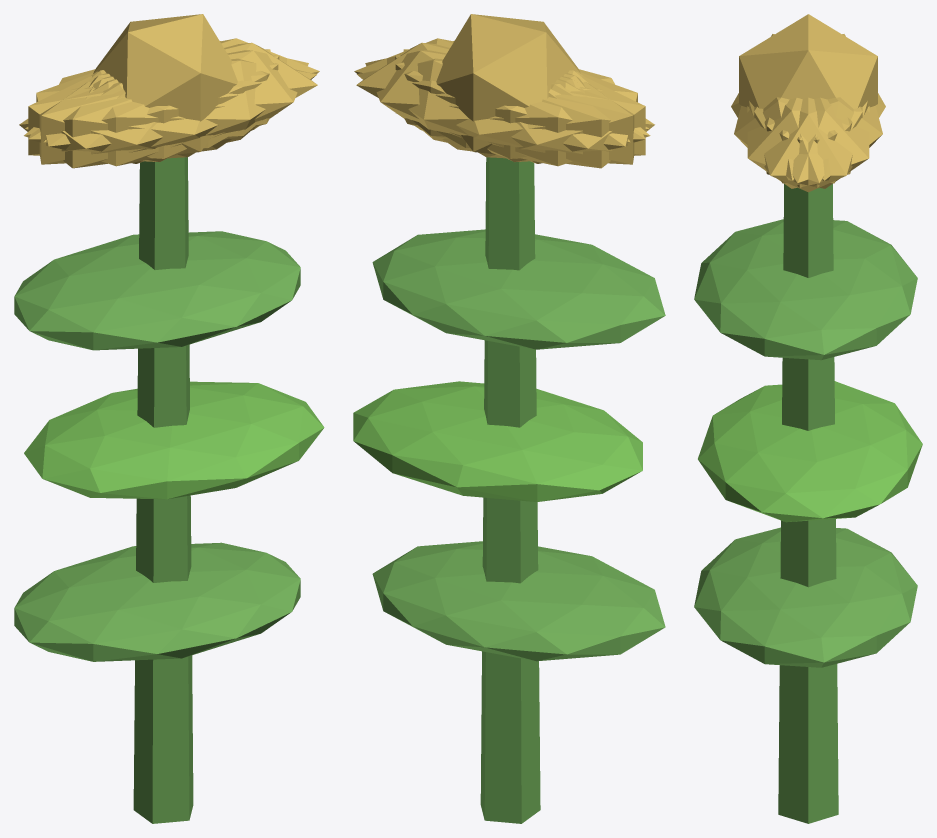
File: phyllanthus-amarus.glb
The picture shows the model from 3 angles, left to right: view 1: azimuth 30°, elevation 25°; view 2: azimuth 150°, elevation 25°; view 3: azimuth 270°, elevation 25°; orthographic projection.
Parts seen in each view (by area): view 1: leaf2, leaf1, leaf0, stem, center, petal1, petal6, petal2, petal5, petal7, petal0, petal4 (+2 smaller); view 2: leaf1, leaf2, leaf0, stem, center, petal8, petal3, petal7, petal4, petal2, petal0, petal5 (+2 smaller); view 3: leaf1, leaf2, leaf0, stem, center, petal0, petal4, petal5, petal8, petal1.
Part boxes in pixels (bbox=[...]): leaf2: bbox=[14, 231, 300, 350]; leaf1: bbox=[24, 381, 324, 499]; leaf0: bbox=[14, 542, 300, 661]; stem: bbox=[133, 157, 193, 823]; center: bbox=[93, 14, 237, 154]; petal1: bbox=[24, 58, 316, 166]; petal6: bbox=[19, 71, 231, 168]; petal2: bbox=[39, 49, 270, 164]; petal5: bbox=[43, 50, 308, 158]; petal7: bbox=[28, 55, 279, 162]; petal0: bbox=[93, 42, 317, 148]; petal4: bbox=[25, 38, 319, 139]; leaf1: bbox=[353, 381, 642, 501]; leaf2: bbox=[372, 229, 665, 349]; leaf0: bbox=[372, 541, 665, 661]; stem: bbox=[480, 157, 540, 823]; center: bbox=[436, 14, 580, 154]; petal8: bbox=[357, 58, 650, 166]; petal3: bbox=[442, 71, 654, 168]; petal7: bbox=[403, 49, 634, 164]; petal4: bbox=[365, 50, 630, 158]; petal2: bbox=[395, 55, 645, 162]; petal0: bbox=[356, 42, 581, 148]; petal5: bbox=[354, 38, 648, 139]; leaf1: bbox=[698, 381, 922, 522]; leaf2: bbox=[694, 219, 917, 360]; leaf0: bbox=[694, 527, 917, 667]; stem: bbox=[778, 184, 838, 823]; center: bbox=[739, 14, 877, 108]; petal0: bbox=[749, 97, 867, 192]; petal4: bbox=[754, 97, 869, 188]; petal5: bbox=[747, 97, 862, 188]; petal8: bbox=[764, 97, 882, 180]; petal1: bbox=[734, 97, 852, 180].
Size of the model in its own units: 0.1487 by 0.3789 by 0.1009.
